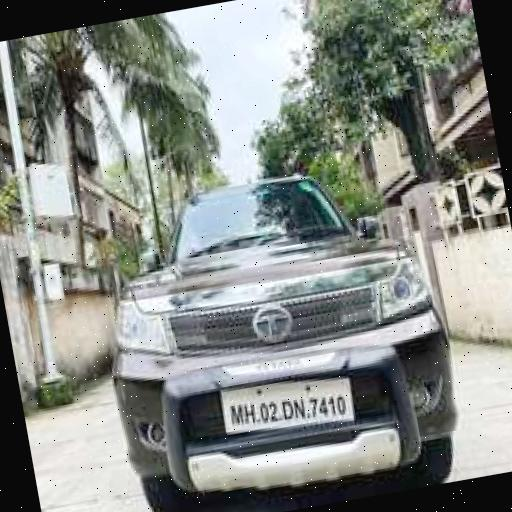license_plate`: (214, 364, 351, 438)
